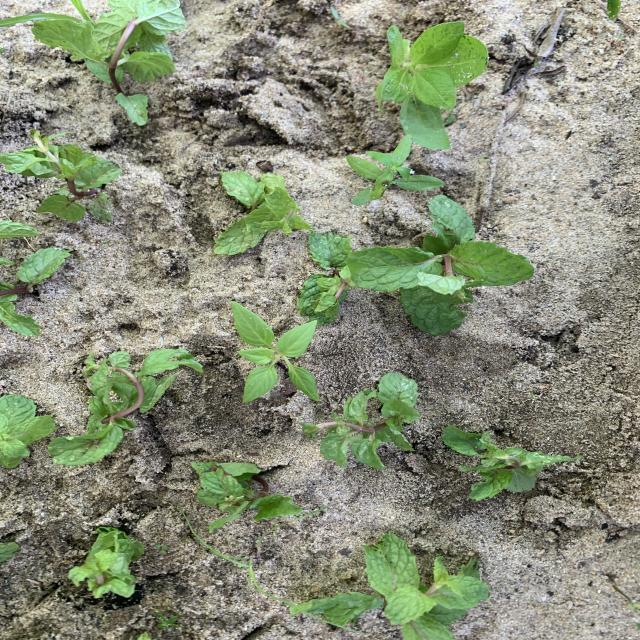crop: (301, 200, 531, 334), (32, 1, 184, 124), (319, 533, 488, 639), (50, 350, 201, 465), (1, 131, 121, 221), (308, 373, 419, 468), (442, 428, 576, 499), (214, 172, 311, 253), (196, 462, 302, 531), (1, 248, 70, 335), (69, 528, 143, 596), (1, 395, 55, 467)
weed: (376, 21, 487, 150), (186, 517, 290, 603), (231, 302, 319, 402), (347, 137, 443, 204), (0, 15, 70, 27), (155, 610, 181, 628), (331, 8, 351, 28), (155, 544, 167, 553), (530, 392, 535, 396)
